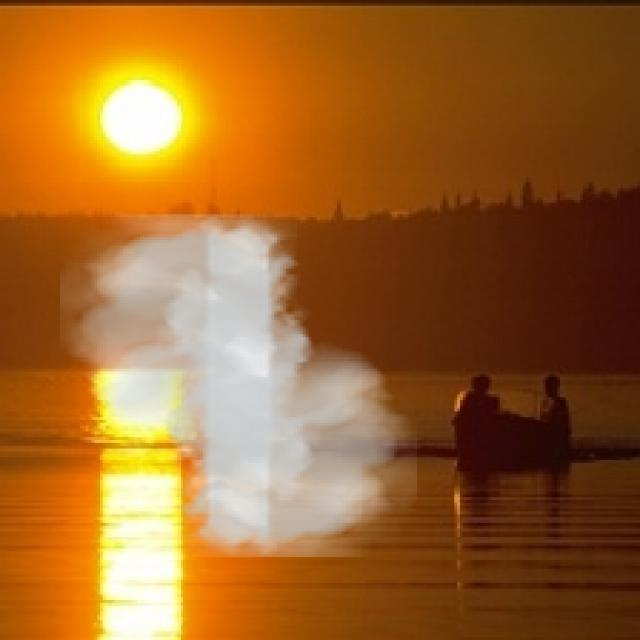Smoke: (60, 214, 417, 557)
